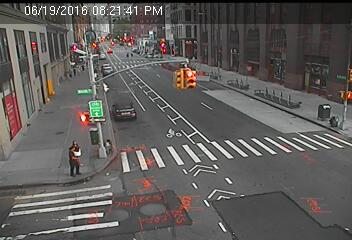neg: (99, 63, 113, 82), (99, 34, 105, 41)
pos: (59, 138, 86, 173), (123, 51, 130, 61), (130, 51, 136, 59)
